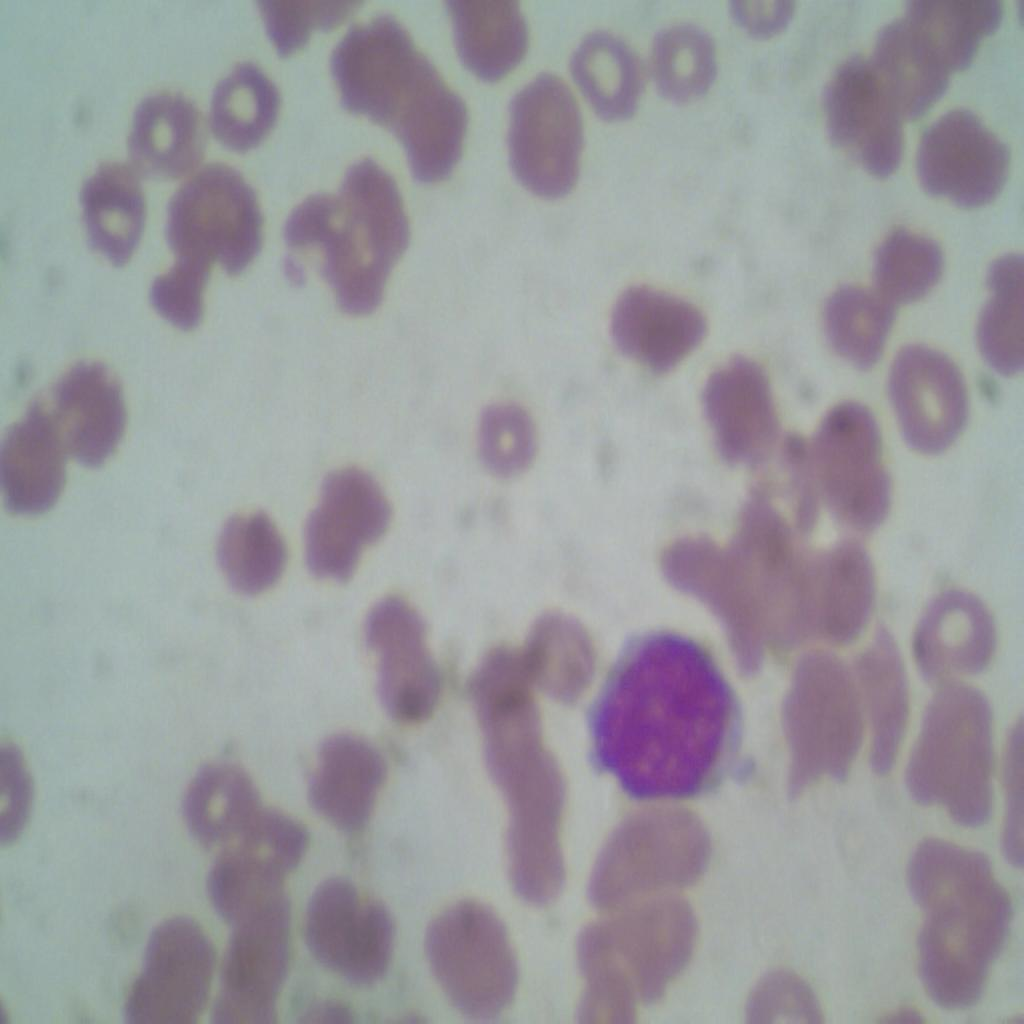Eritrosit: (576, 785, 718, 897), (816, 58, 910, 208), (422, 892, 523, 1021), (802, 395, 891, 534), (776, 652, 861, 794), (498, 70, 588, 192), (49, 352, 135, 477), (166, 154, 264, 261), (193, 498, 289, 605), (609, 274, 701, 378), (278, 162, 364, 272), (918, 101, 1004, 210), (879, 337, 964, 445), (114, 75, 202, 174), (691, 357, 776, 458), (3, 402, 76, 519), (799, 537, 883, 638), (870, 24, 964, 114), (848, 634, 914, 762), (895, 0, 1001, 79), (486, 808, 573, 904), (198, 54, 286, 148), (343, 161, 426, 260), (921, 578, 1006, 674), (78, 155, 148, 271), (866, 205, 938, 317), (306, 735, 392, 826), (611, 887, 702, 972), (824, 274, 895, 382), (141, 911, 221, 1005), (911, 822, 989, 918), (572, 914, 670, 989), (568, 24, 646, 118), (218, 900, 298, 988), (316, 456, 391, 548), (326, 906, 406, 992), (143, 257, 222, 344), (498, 749, 580, 831), (446, 5, 534, 81), (951, 738, 1015, 842), (473, 698, 550, 784), (531, 604, 601, 698), (926, 671, 995, 764), (239, 799, 318, 878), (334, 24, 403, 114), (642, 24, 719, 104), (186, 758, 260, 838), (322, 232, 395, 312), (478, 399, 544, 487), (926, 908, 984, 1008), (955, 867, 1018, 958), (968, 262, 1023, 360), (468, 637, 534, 717), (571, 961, 656, 1023), (371, 68, 443, 139), (366, 592, 428, 672), (406, 90, 468, 170), (904, 724, 966, 804), (302, 502, 360, 584), (304, 868, 354, 959), (376, 655, 443, 722), (210, 845, 276, 908)
Limfoblast: (589, 625, 755, 808)
